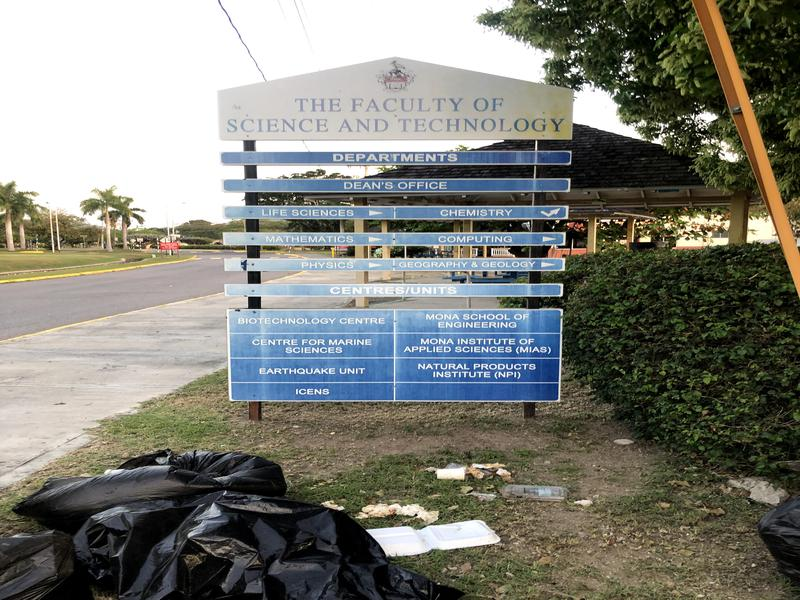18.0055634_-76.7484079_scitechsign: (191, 52, 589, 433)
